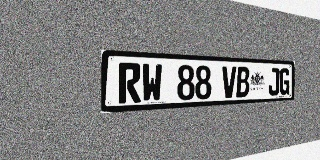8: (177, 65, 195, 101), (195, 65, 211, 100)
B: (236, 67, 250, 97)
G: (279, 68, 290, 95)
J: (268, 68, 280, 96)
R: (118, 62, 141, 104)
V: (222, 66, 236, 98)
W: (142, 63, 162, 102)
